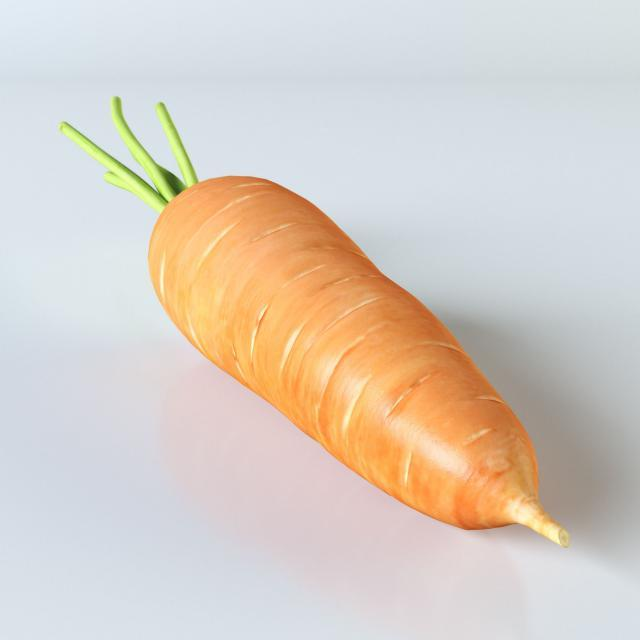carrot: (140, 174, 585, 549)
